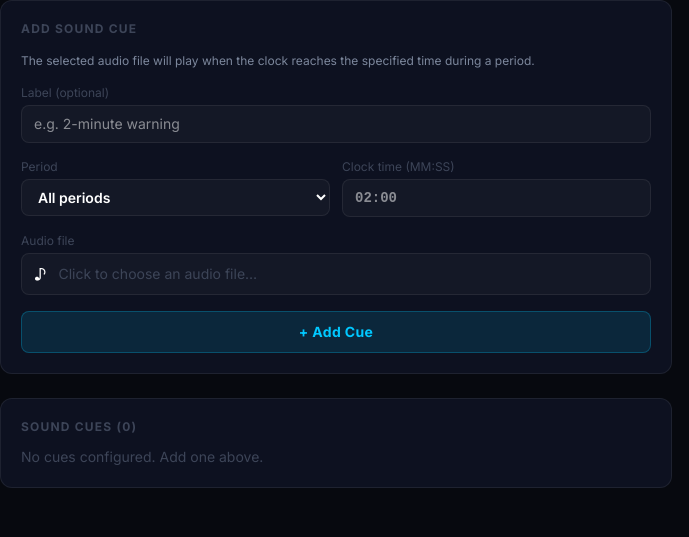
Test: AudioTab › shows a validation error when adding a cue without a clock time
Click the button with test id "sound-add-cue" at (336,332), box top-left (21, 311), bottom-right (651, 353)
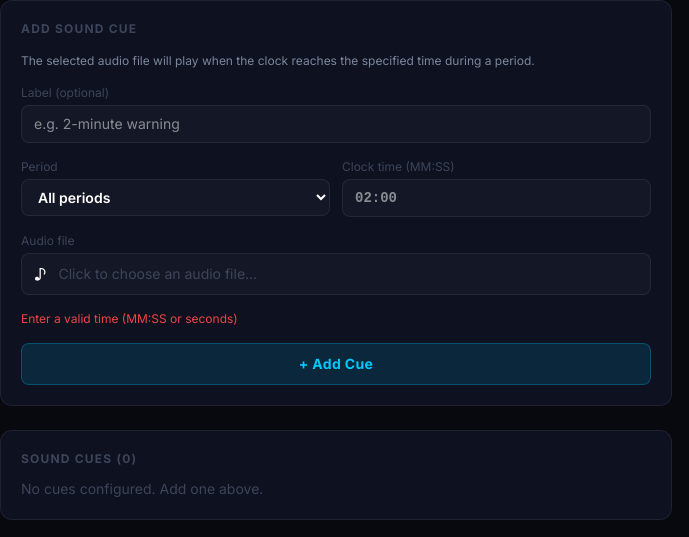
Result: the text with test id "sound-error" shows "Enter a valid time" at top-left (21, 311), bottom-right (238, 326)
